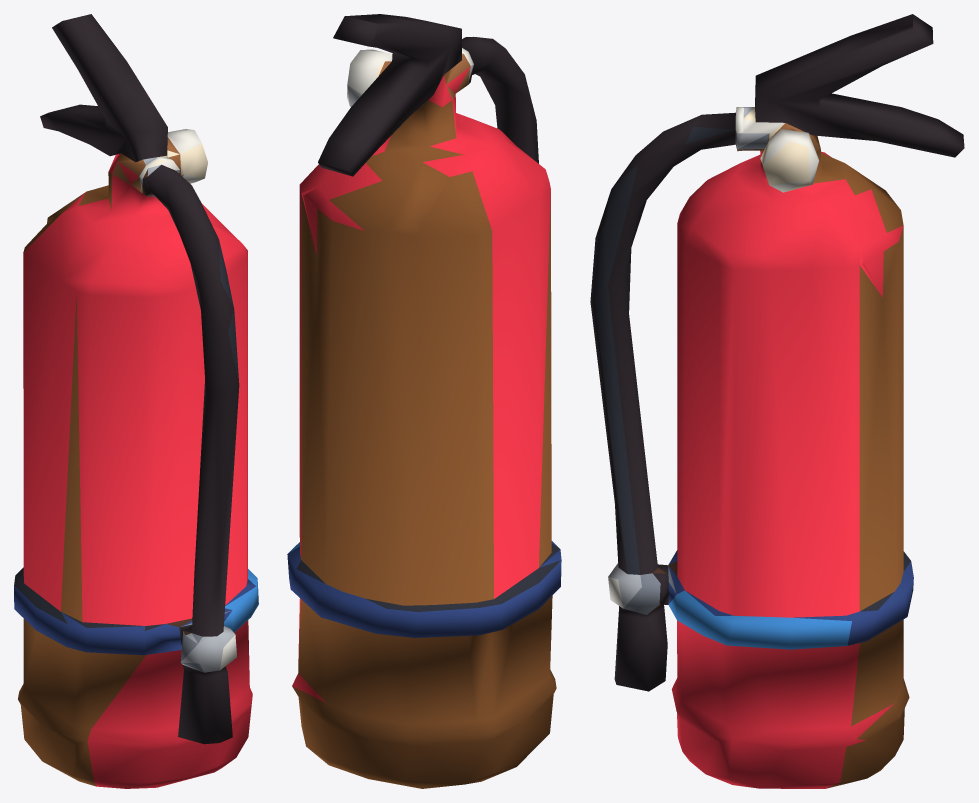
Rendered from SM_fire_extinguisher.fbx.
3 views of the same model, side by side, from view 1: azimuth 30°, elevation 25°; view 2: azimuth 150°, elevation 25°; view 3: azimuth 270°, elevation 25° (orthographic). The views are drawn at different scales.
Visible parts, largest first — view 1: SM_fire_extinguisher; view 2: SM_fire_extinguisher; view 3: SM_fire_extinguisher.
Part boxes in pixels (x1,y1,x2,y2): SM_fire_extinguisher: (14, 14, 258, 788); SM_fire_extinguisher: (287, 14, 561, 788); SM_fire_extinguisher: (590, 14, 964, 788).
Size of the model in its own units: 18.38 by 60 by 27.96.
1 material, 1 textured.
